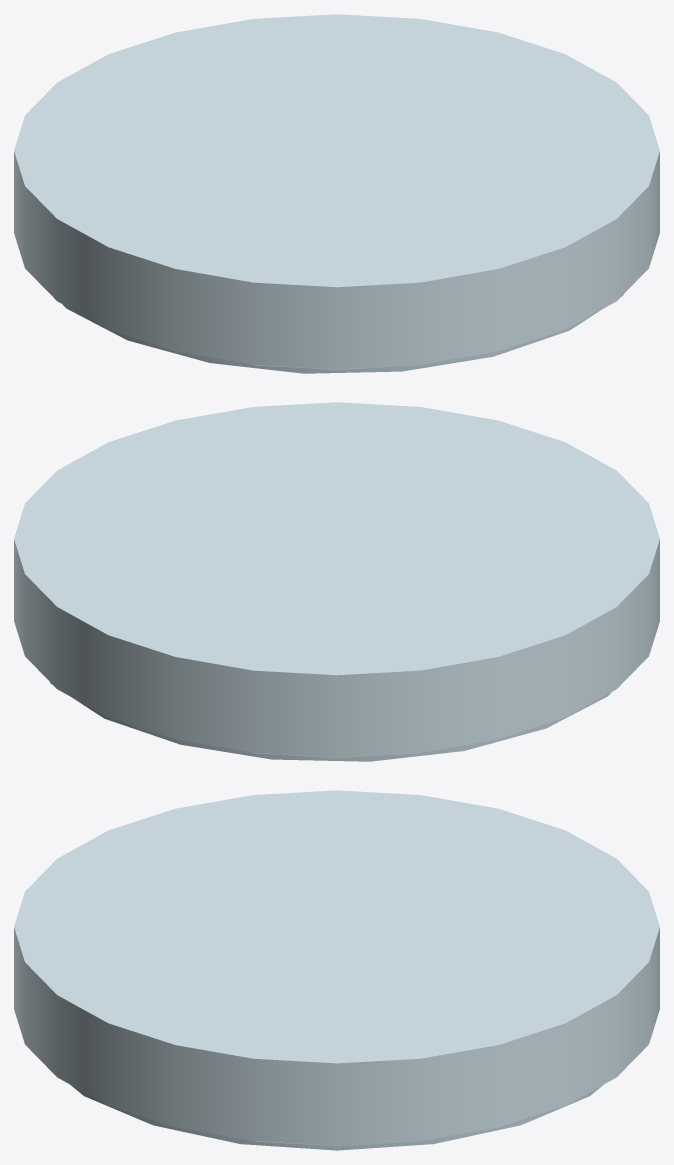
Rendered from petri.glb.
3 views of the same model, one above another, from view 1: azimuth 30°, elevation 25°; view 2: azimuth 150°, elevation 25°; view 3: azimuth 270°, elevation 25° (orthographic).
Parts seen in each view (by area): view 1: petri; view 2: petri; view 3: petri.
Boxes of the visible parts, x1,y1,x2,y2 form: petri: (14, 14, 659, 373); petri: (14, 402, 659, 761); petri: (14, 790, 659, 1150).
Size of the model in its own units: 1.28 by 0.2 by 1.28.
